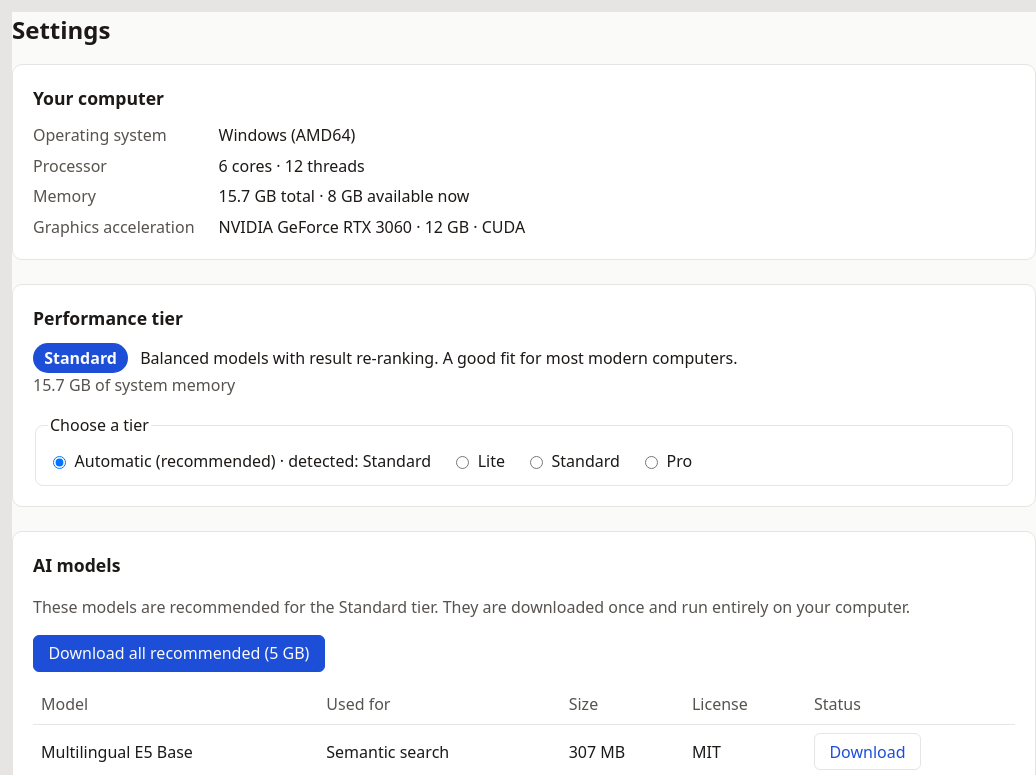
it: SettingsPage › downloads all recommended models with live progress
This screenshot has width=1036, height=775.
Click the button "Download all recommended ( 5 GB )": (179, 653) [33,635,325,672]
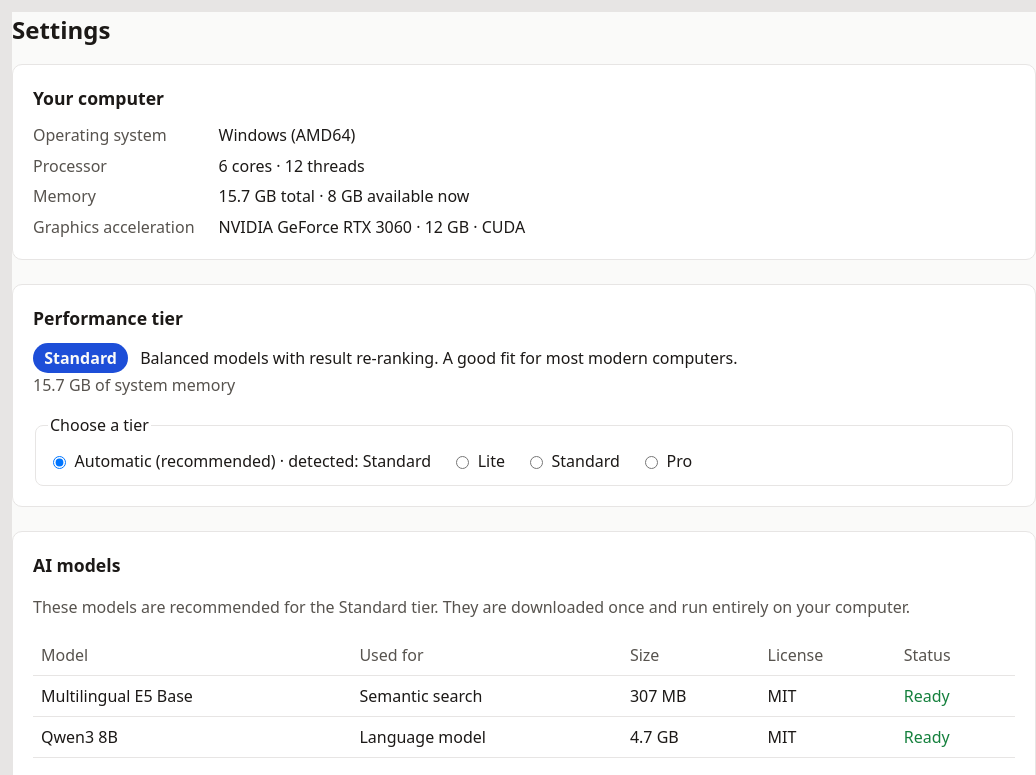
Expected: the text "Ready" is shown 2 times, [904,685,950,707]; [904,726,950,748]
Expected: the button "Download all recommended" is gone
